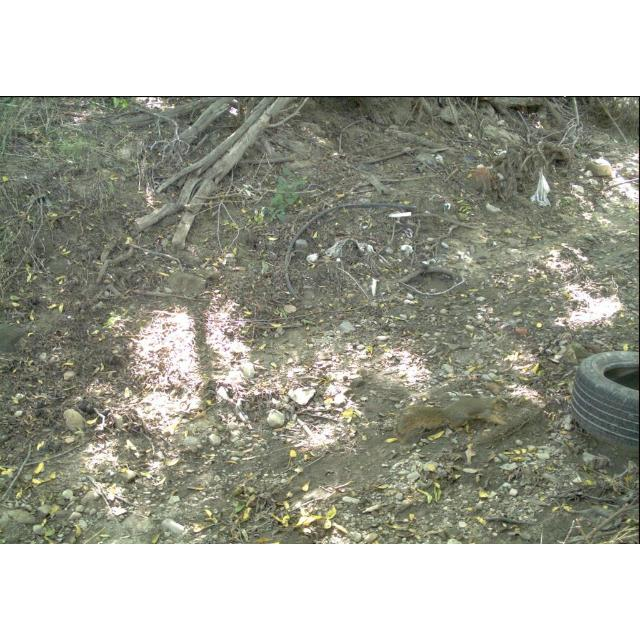animals: (390, 390, 514, 436)
